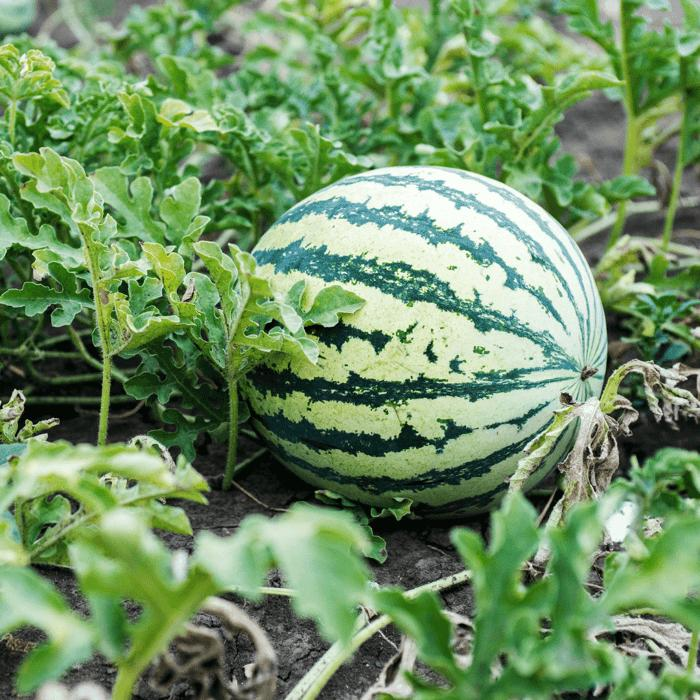watermelon: (215, 153, 629, 512)
